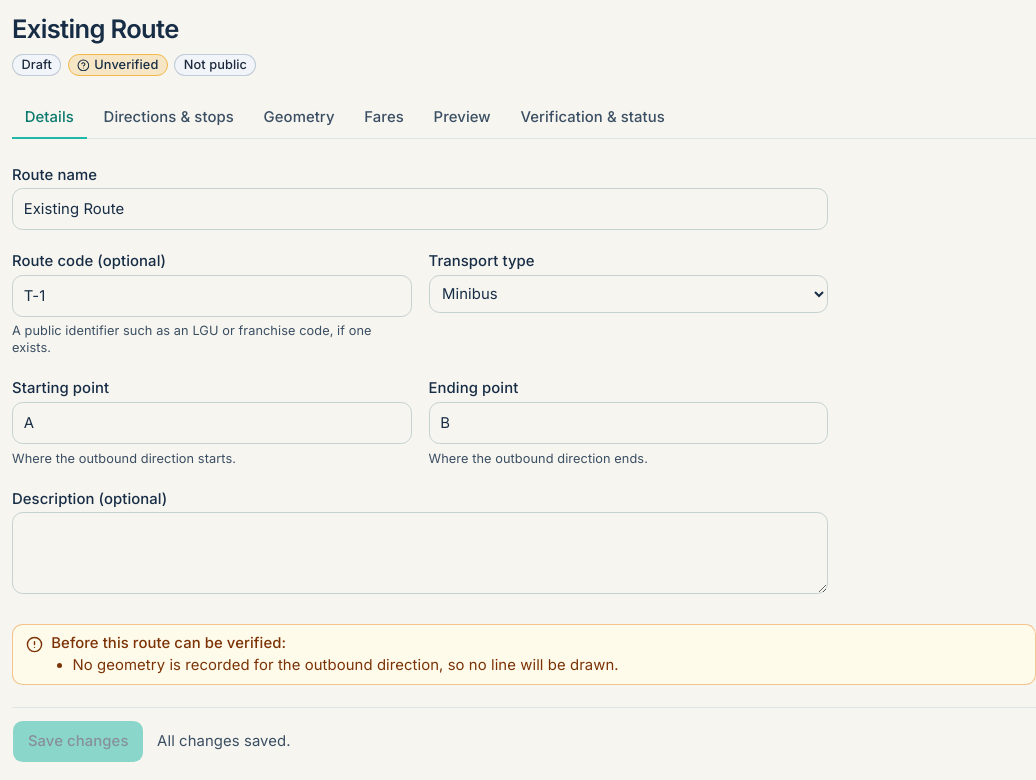
Test: an existing route › keeps edits when saving fails
The width and height of the screenshot is (1036, 780).
Type "!" into the field labelled "Route name" at (420, 209), box [12,188,828,230]
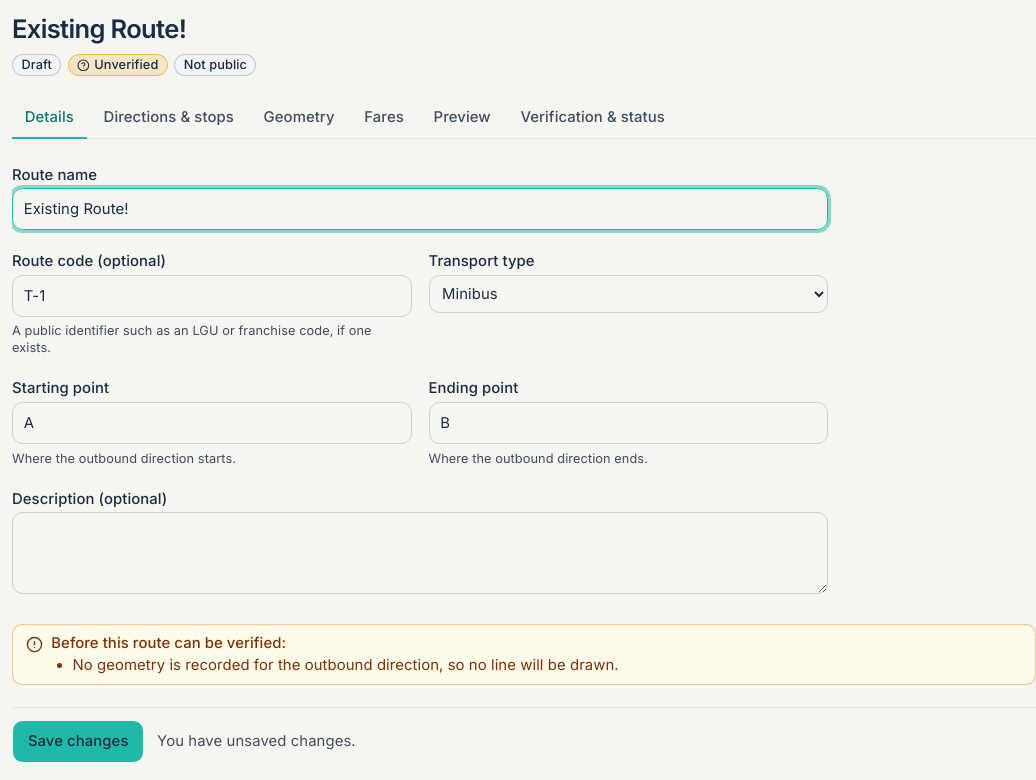
Click the button "Save changes" at (78, 742), box [12,720,144,763]
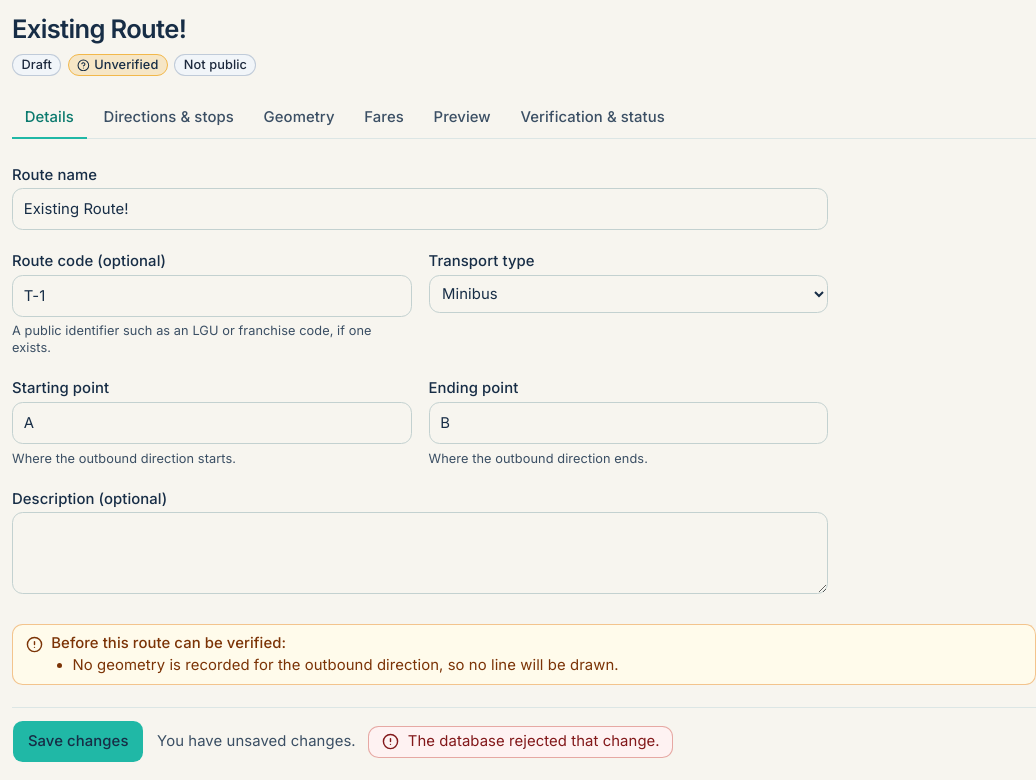
Now the text "You have unsaved changes." is shown, box [157,731,356,752]
Now the field labelled "Route name" holds "Existing Route!", box [12,188,828,230]
Now the text "The database rejected that change." is shown, box [408,731,660,752]
